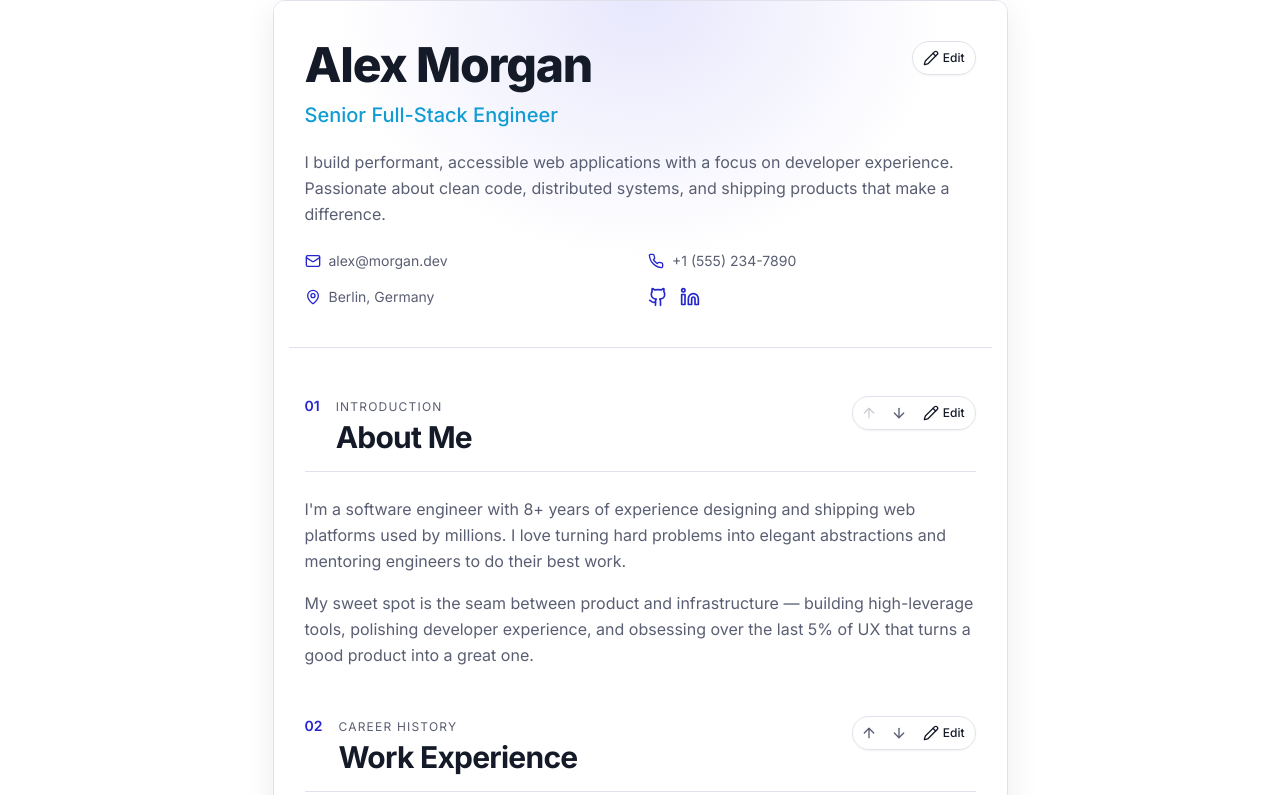
EditableCVPreview › shows Cancel to the left of Done while editing
This screenshot has width=1280, height=795.
Click the 3rd button "Edit" at x=944, y=733, box top-left (915, 719), bottom-right (972, 747)
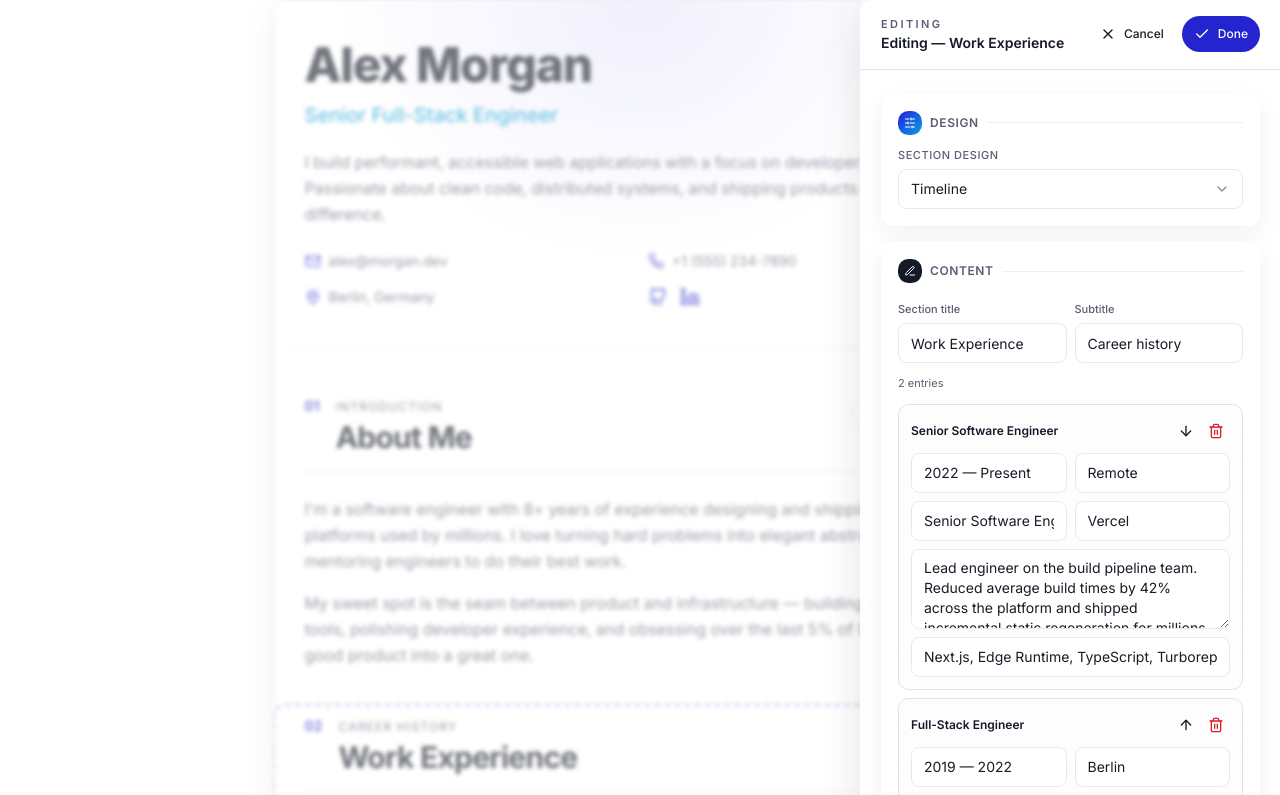
Now the button "Cancel" is shown, box top-left (1088, 16), bottom-right (1176, 52)
Now the button "Done" is shown, box top-left (1182, 16), bottom-right (1260, 52)
